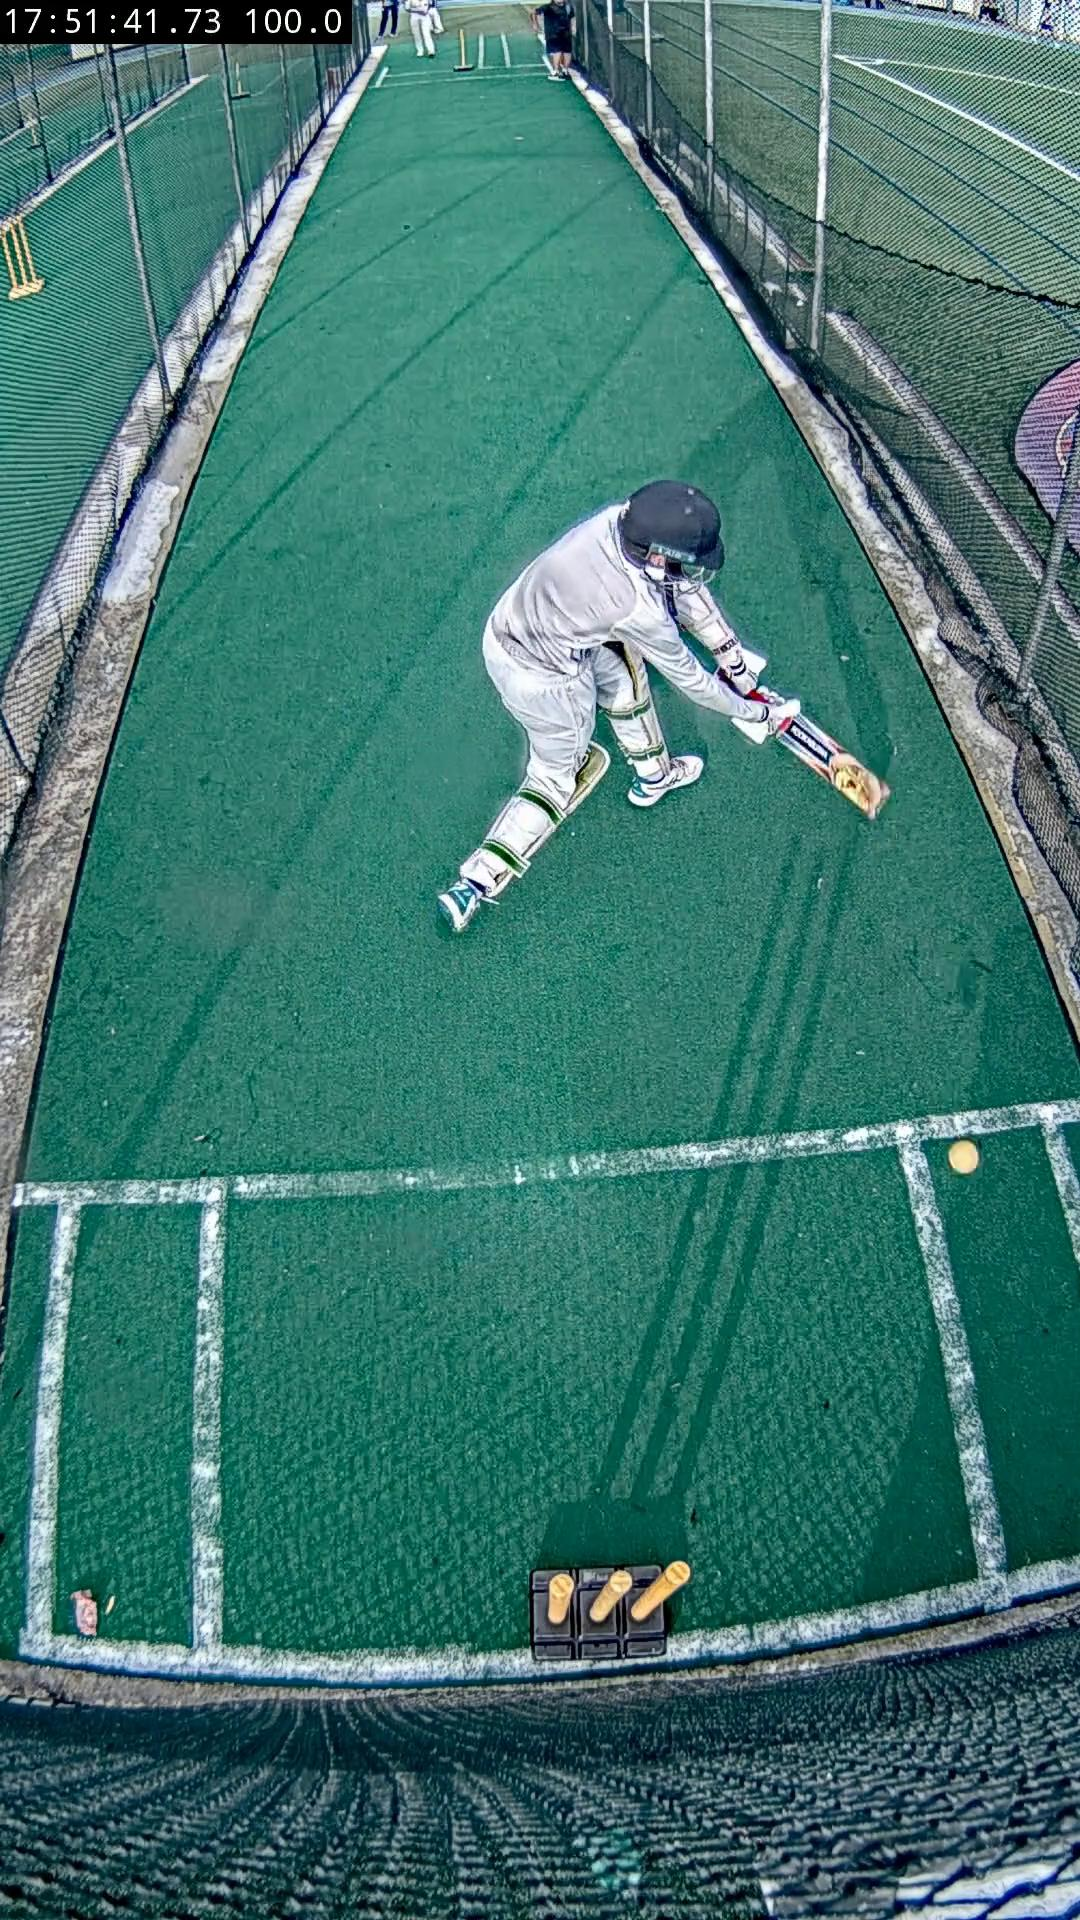ball: (948, 1139, 978, 1174)
bat: (777, 712, 889, 818)
gloves: (716, 641, 803, 742)
helmet: (618, 480, 724, 585)
pads: (563, 742, 612, 818)
stumps: (529, 1560, 690, 1662)
